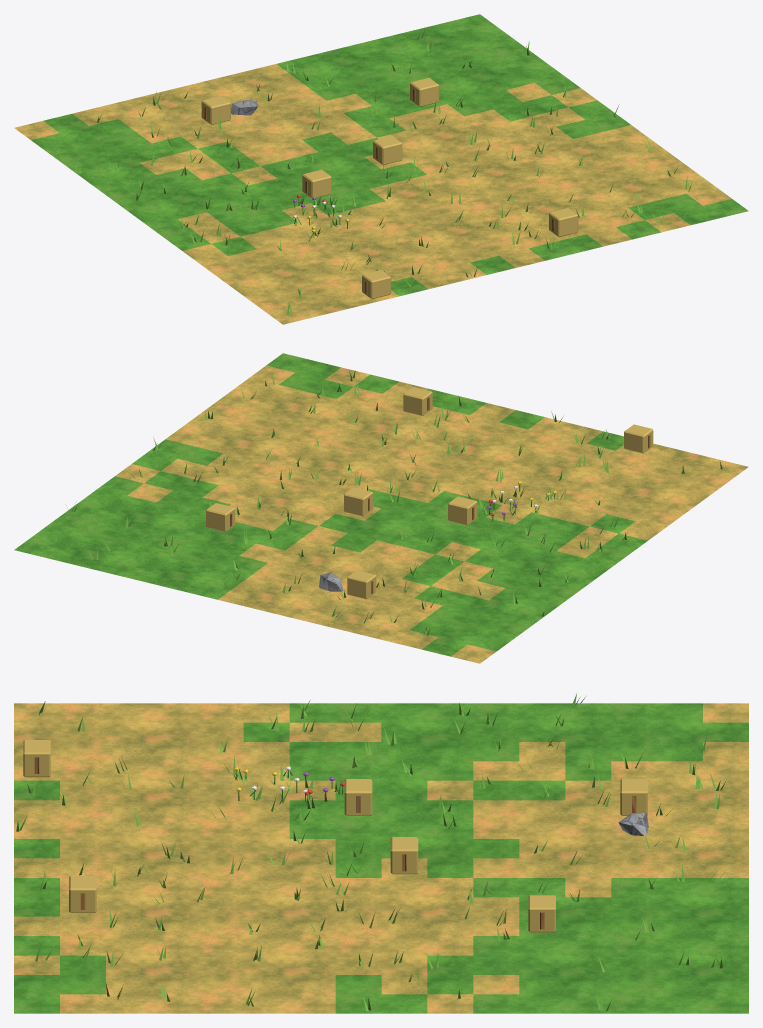
File: chunk_9_8.glb
3 renders of one model, top to bottom at view 1: azimuth 30°, elevation 25°; view 2: azimuth 150°, elevation 25°; view 3: azimuth 270°, elevation 25°, orthographic. The views are drawn at different scales.
Visible parts, largest first — view 1: chunk_9_8; view 2: chunk_9_8; view 3: chunk_9_8.
Part boxes in pixels (box(x1,y1,x2,y2)): chunk_9_8: box(14, 14, 748, 324); chunk_9_8: box(14, 353, 748, 663); chunk_9_8: box(14, 693, 748, 1013).
Size of the model in its own units: 16.07 by 0.7921 by 16.
11 materials, 5 textured.
